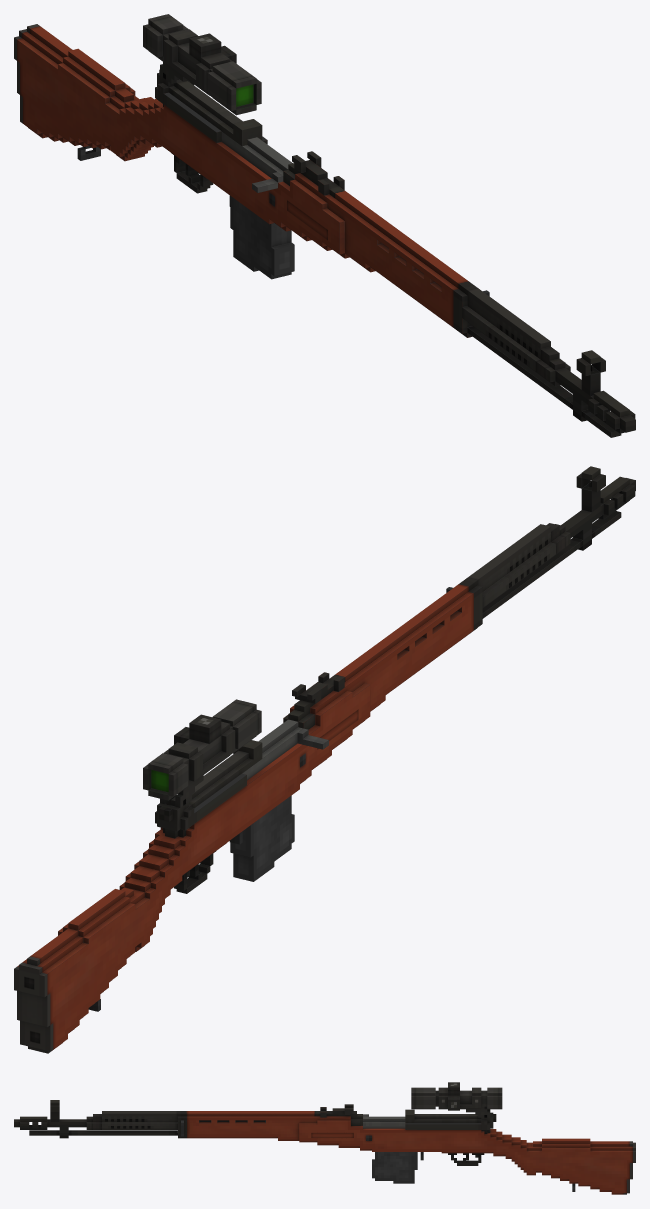
File: RD_SVT40.glb
3 views of the same model, one above another, from view 1: azimuth 30°, elevation 25°; view 2: azimuth 150°, elevation 25°; view 3: azimuth 270°, elevation 25° (orthographic). The views are drawn at different scales.
Visible parts, largest first — view 1: SVT40, SVT40_SCOPE, SVT40_CLIP, SVT40_DOLT; view 2: SVT40, SVT40_SCOPE, SVT40_CLIP, SVT40_DOLT; view 3: SVT40, SVT40_SCOPE, SVT40_CLIP, SVT40_DOLT.
Part boxes in pixels (box(x1,y1,x2,y2)): SVT40: box(14, 24, 635, 437); SVT40_SCOPE: box(143, 14, 261, 115); SVT40_CLIP: box(230, 196, 294, 279); SVT40_DOLT: box(221, 131, 292, 192); SVT40: box(14, 466, 635, 1053); SVT40_SCOPE: box(143, 699, 261, 831); SVT40_CLIP: box(230, 795, 294, 881); SVT40_DOLT: box(242, 719, 328, 780); SVT40: box(14, 1100, 635, 1194); SVT40_SCOPE: box(411, 1082, 502, 1129); SVT40_CLIP: box(372, 1152, 417, 1183); SVT40_DOLT: box(363, 1114, 405, 1128).
Size of the model in its own units: 0.1181 by 0.3839 by 2.02.
Materials: 1 (1 with a texture image).
